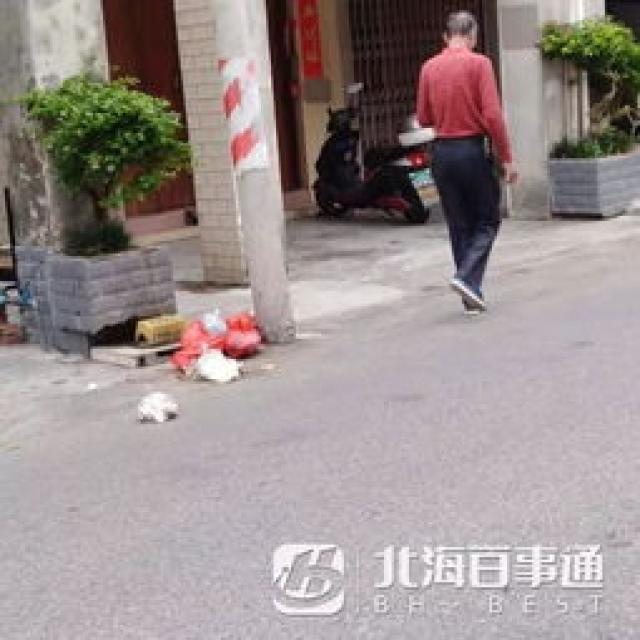garbage: (131, 306, 261, 419)
